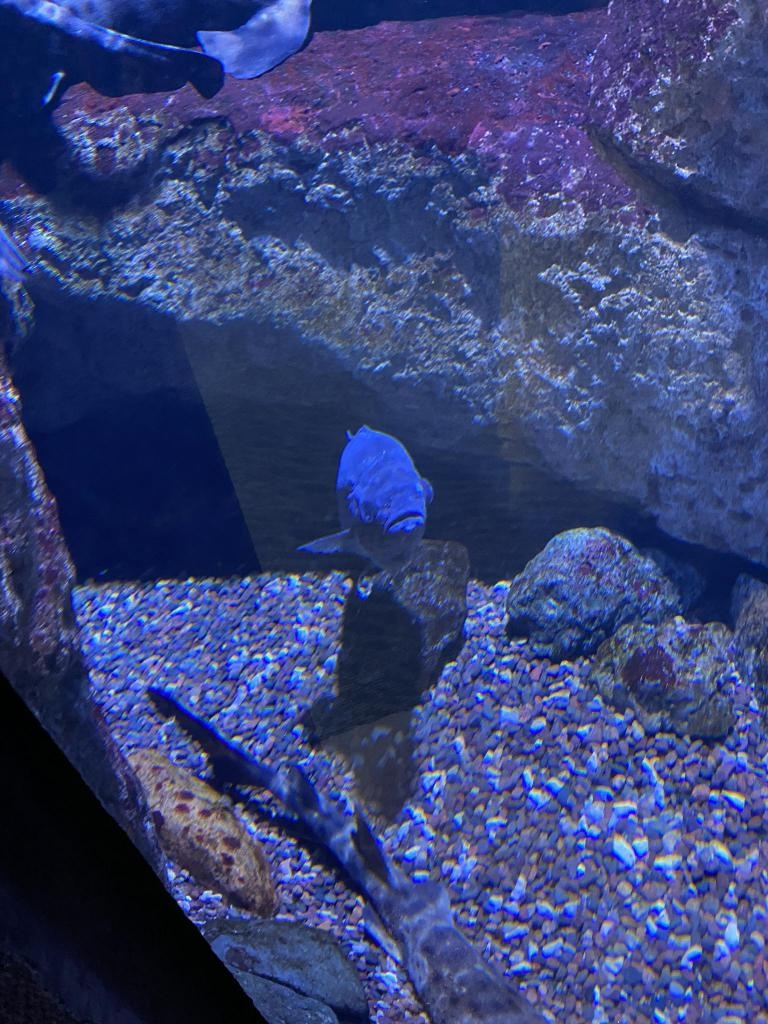fish: (299, 426, 429, 556)
shark: (153, 689, 552, 1023), (0, 0, 322, 106)
